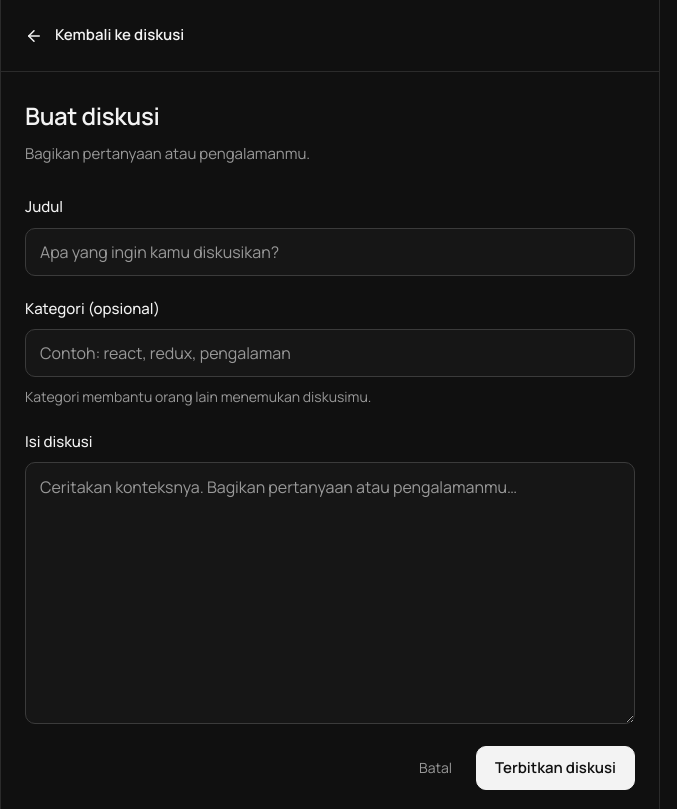
keeps thread contents after a failed submission
The width and height of the screenshot is (677, 809).
Type "Judul" into the field labelled "Judul". click: (330, 252)
box: [25, 228, 635, 276]
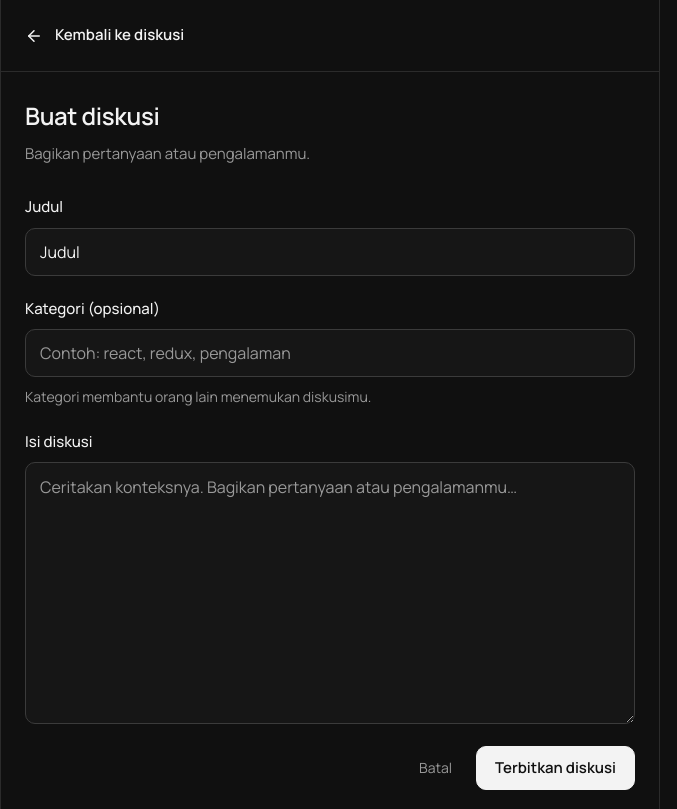
Type "Konten" into the text box labelled "Isi diskusi". click: (330, 593)
box: [25, 462, 635, 724]
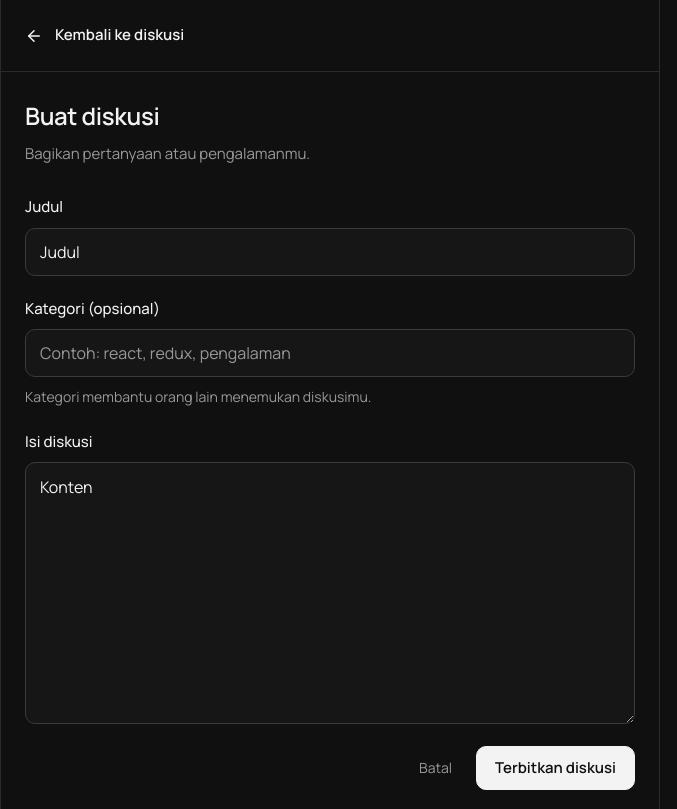
Click the button "Terbitkan diskusi". click: (556, 768)
box: [476, 746, 635, 790]
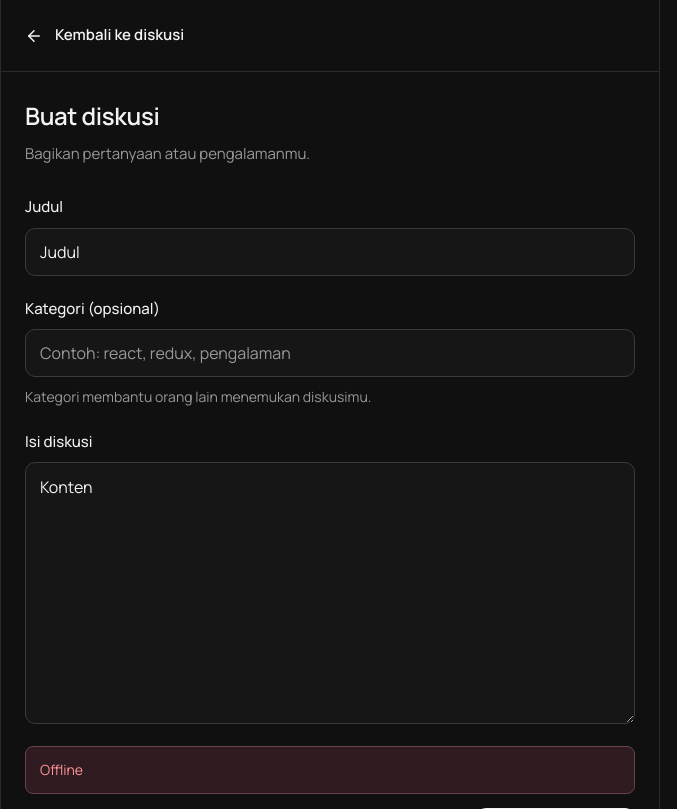
Now the message reads "Offline", box [40, 760, 83, 779]
